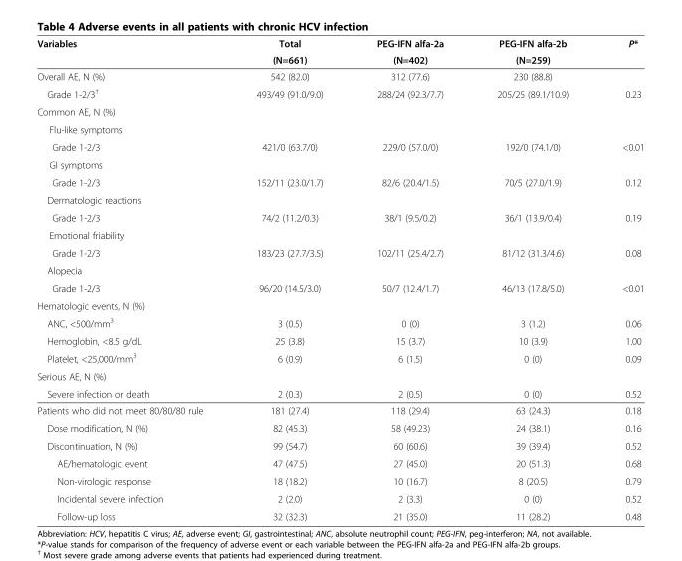table: (36, 37, 643, 521)
table column: (36, 37, 229, 521), (469, 37, 594, 521), (229, 37, 349, 521), (349, 37, 469, 521), (594, 37, 643, 521)
table column header: (36, 37, 643, 67)
table projected row header: (36, 102, 643, 120), (36, 155, 643, 173), (36, 190, 643, 208), (36, 261, 643, 279), (36, 120, 643, 137), (36, 226, 643, 243), (36, 296, 643, 313), (36, 367, 643, 384)
table row: (36, 348, 643, 367), (36, 84, 643, 102), (36, 102, 643, 120), (36, 137, 643, 155), (36, 155, 643, 173), (36, 190, 643, 208), (36, 208, 643, 226), (36, 243, 643, 261), (36, 261, 643, 279), (36, 313, 643, 331), (36, 401, 643, 419), (36, 436, 643, 454), (36, 454, 643, 472), (36, 489, 643, 507), (36, 67, 643, 84), (36, 120, 643, 137), (36, 173, 643, 190), (36, 226, 643, 243), (36, 279, 643, 296), (36, 296, 643, 313), (36, 331, 643, 348), (36, 367, 643, 384), (36, 384, 643, 401), (36, 419, 643, 436), (36, 472, 643, 489), (36, 51, 643, 67), (36, 37, 643, 51), (36, 507, 643, 521)
table spanning cell: (36, 37, 229, 67), (469, 37, 594, 67), (229, 37, 349, 67), (349, 37, 469, 67), (594, 37, 643, 67)
